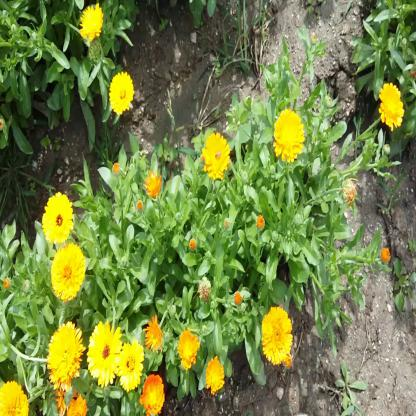marigold: (87, 321, 121, 386), (260, 306, 293, 365), (49, 324, 81, 382), (51, 245, 83, 302), (43, 193, 73, 250), (274, 108, 305, 160), (203, 132, 230, 180), (118, 340, 141, 392), (378, 82, 404, 126), (108, 70, 132, 113), (0, 382, 28, 414), (178, 329, 199, 370), (140, 374, 164, 408), (205, 356, 226, 392), (79, 4, 100, 36), (145, 319, 165, 352), (144, 167, 163, 197)
